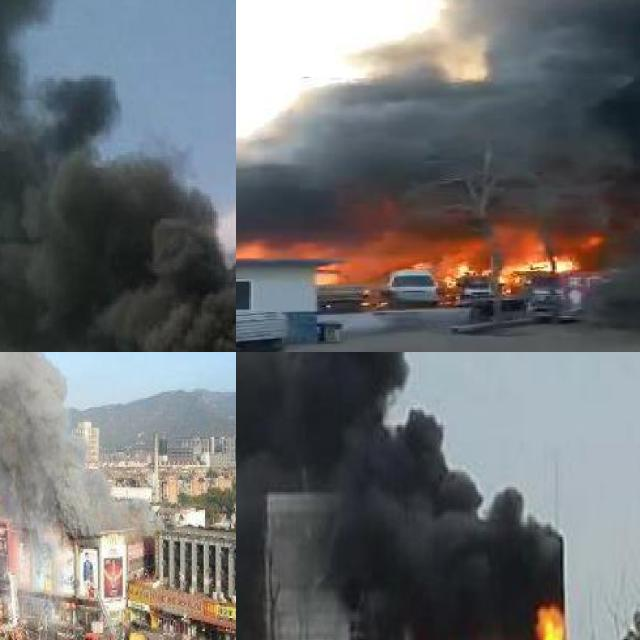fire: (433, 234, 588, 284), (462, 599, 566, 640)
smoke: (236, 0, 640, 259), (0, 0, 236, 352), (330, 435, 552, 634), (0, 352, 136, 542), (236, 352, 416, 462)
